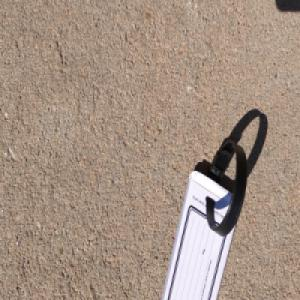LuggageTag: (158, 138, 248, 300)
